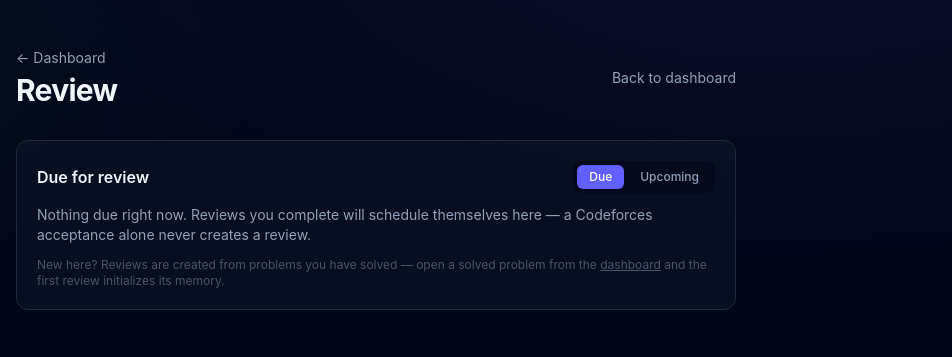
Test case: upcoming mode is clearly typed and separate
This screenshot has width=952, height=357.
Check: the text "Nothing due right now" is shown, box x1=37 y1=206 x2=653 y2=243
Click the tab "Upcoming": (670, 177) x1=628 y1=165 x2=711 y2=189
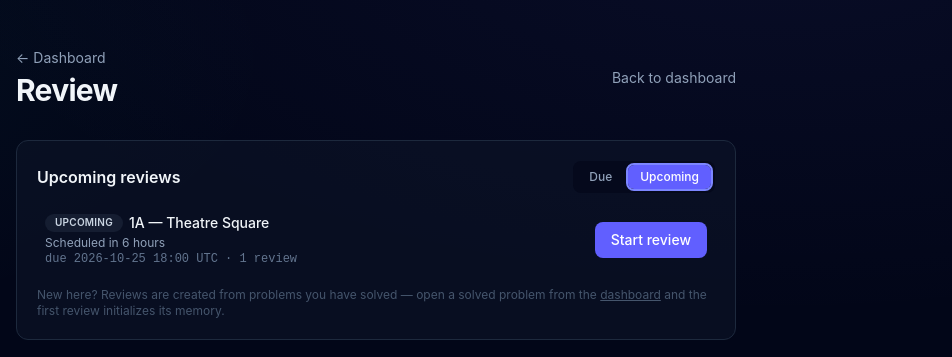
Check: the heading "Upcoming reviews" is shown, box x1=37 y1=165 x2=180 y2=189
Check: the text "Scheduled in 6 hours" is shown, box x1=45 y1=235 x2=165 y2=250
